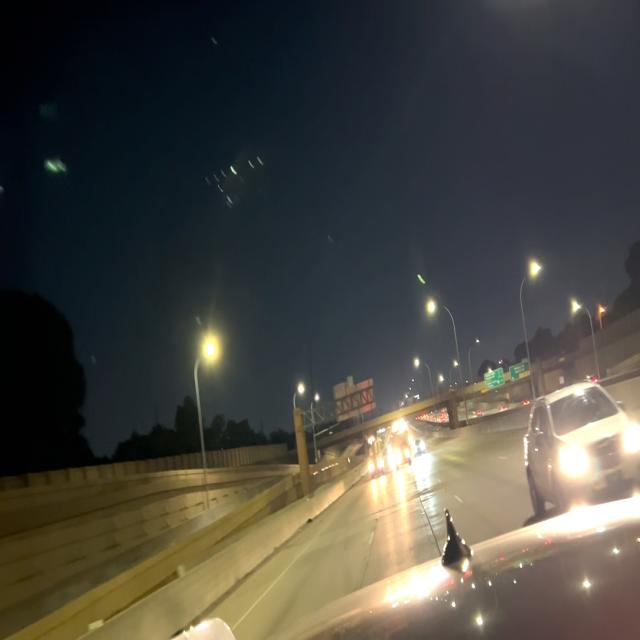back-of-sign: (333, 376, 377, 428)
